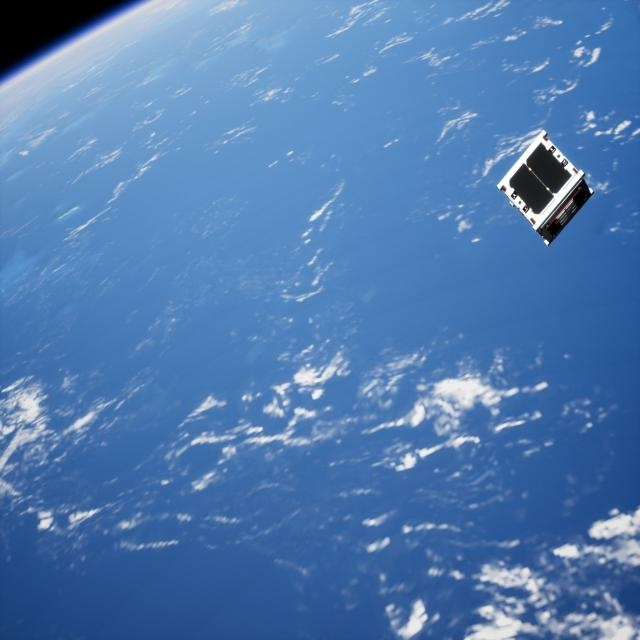medium_debris: (487, 129, 600, 248)
